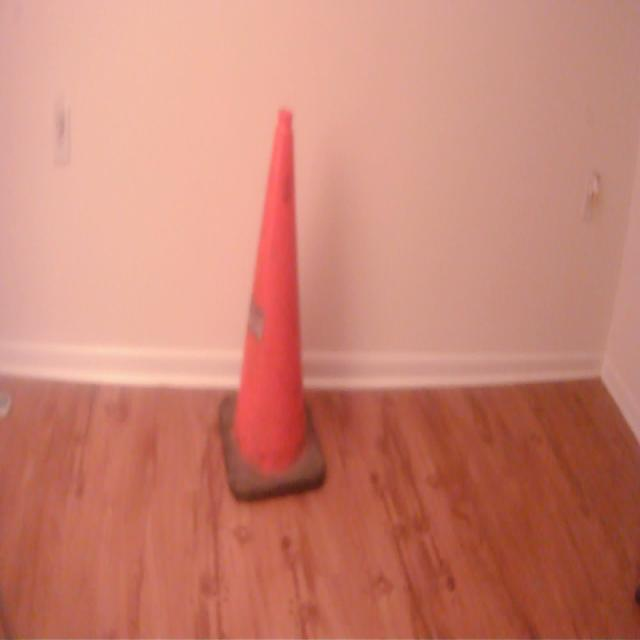traffic cone: (217, 103, 332, 508)
